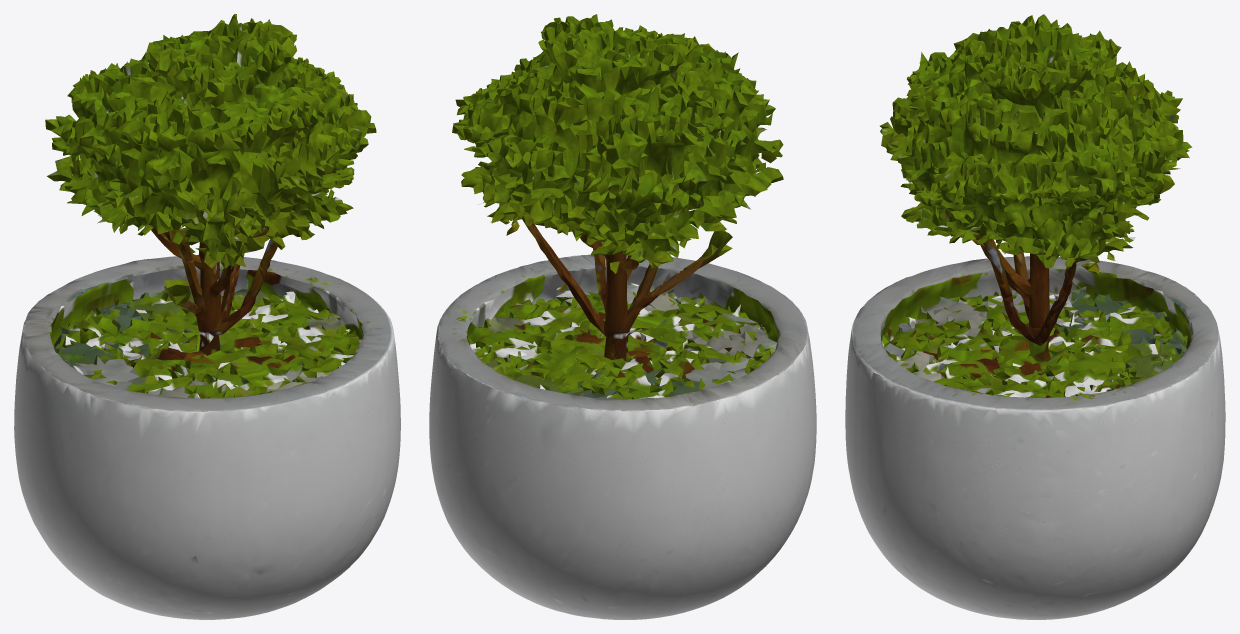
The model's file is potted_plant_small_001_001.glb.
3 renders of one model, left to right at view 1: azimuth 30°, elevation 25°; view 2: azimuth 150°, elevation 25°; view 3: azimuth 270°, elevation 25°, orthographic.
Visible parts, largest first — view 1: potted_plant_small_001_001_LOD0; view 2: potted_plant_small_001_001_LOD0; view 3: potted_plant_small_001_001_LOD0.
Boxes of the visible parts, x1,y1,x2,y2 form: potted_plant_small_001_001_LOD0: (14,14,400,619); potted_plant_small_001_001_LOD0: (429,14,816,619); potted_plant_small_001_001_LOD0: (845,14,1225,619).
Size of what is drawn, in the model's own units: 0.4113 by 0.65 by 0.4076.
1 material, 1 textured.
